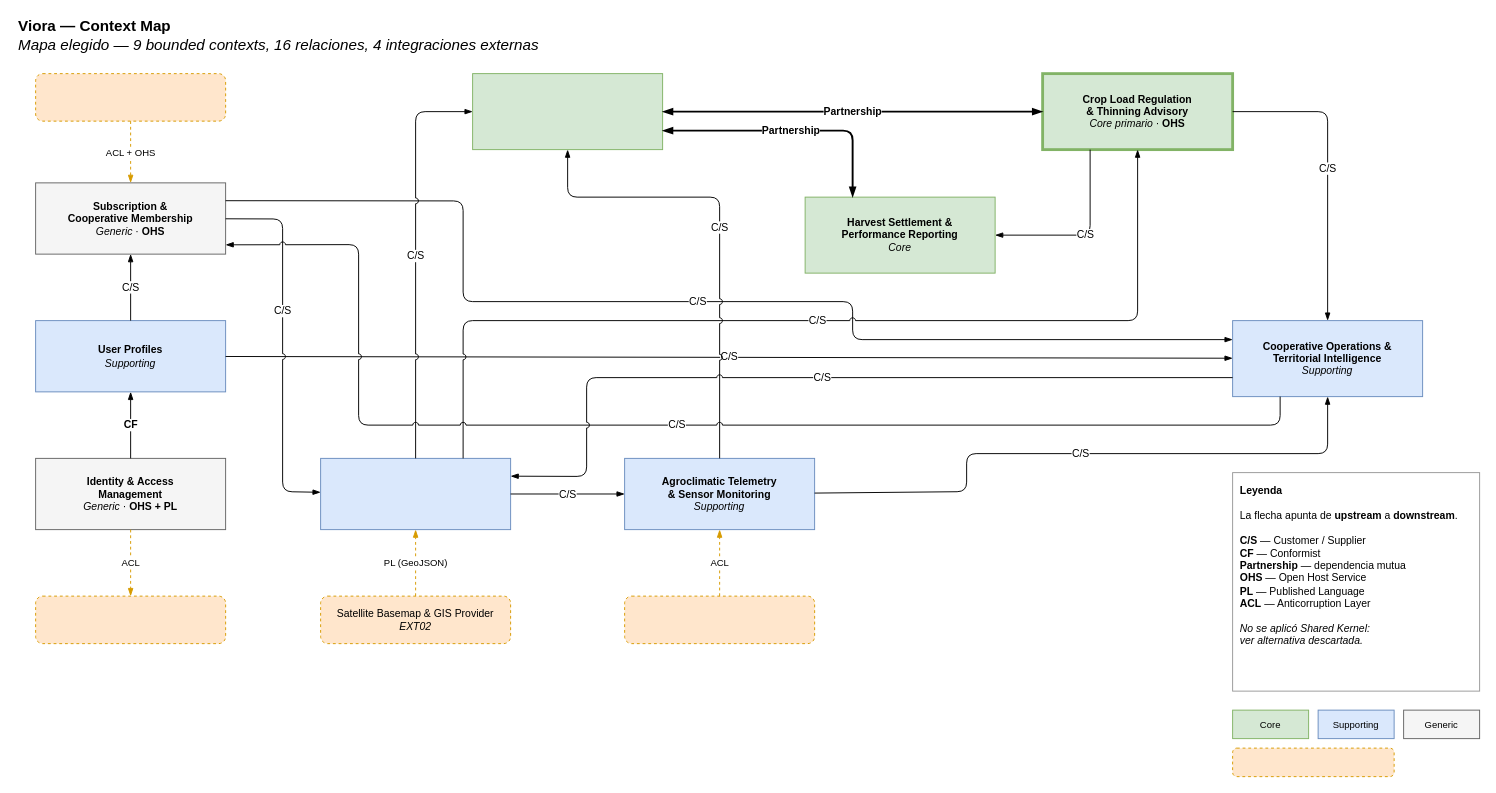
The diagram is 1496 pixels wide and 793 high, and some of its shapes have lost their labels. Here are the shapes that lost their labels. From the top down, the box of each, then its label:
(35, 73, 226, 121): Payment Gateway Service EXT01
(472, 73, 663, 150): Phenology & Historical Bearing Analytics Core
(320, 457, 511, 530): Olive Orchard & Plot Management Supporting · OHS
(35, 595, 226, 644): Transactional Mail Service EXT04
(624, 595, 815, 644): Agroclimatic Weather API EXT03
(1232, 747, 1394, 777): Sistema externo
